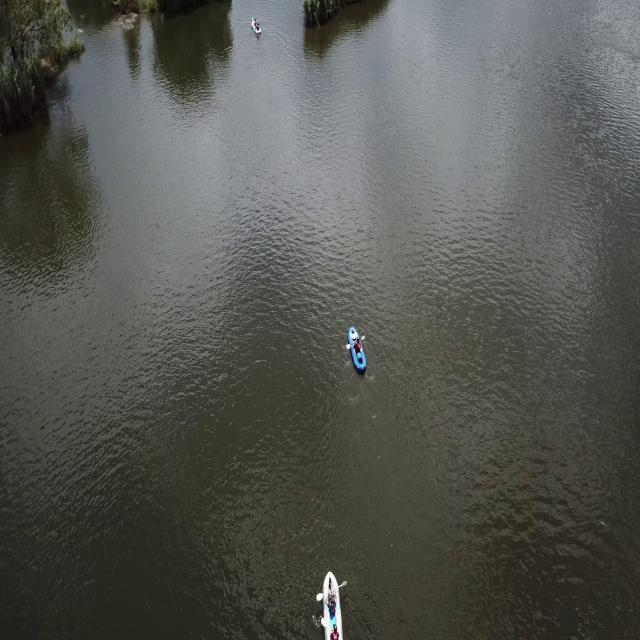kayak: (312, 569, 348, 639), (346, 324, 368, 378), (251, 17, 262, 44)
